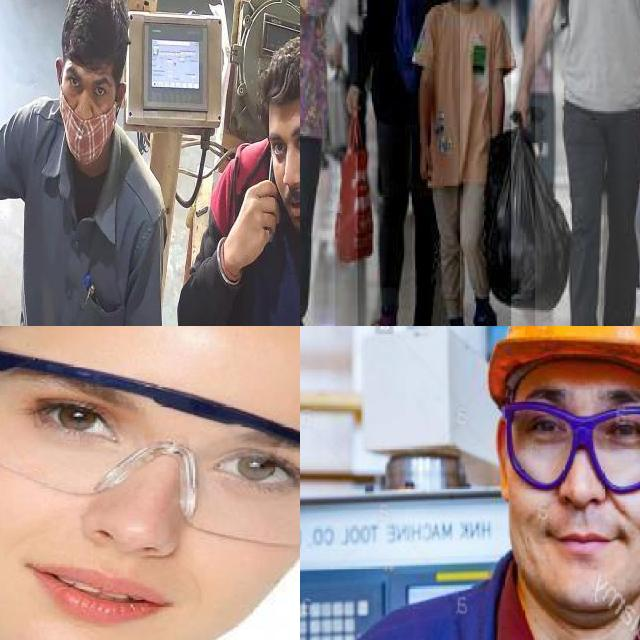face_mask: (60, 70, 115, 166)
face_nomask: (16, 386, 288, 640), (514, 396, 640, 562), (266, 127, 300, 226)
glasses: (0, 326, 300, 553), (500, 403, 640, 494)
hand_noglove: (230, 178, 284, 256), (507, 78, 536, 126), (342, 80, 370, 122)
head_helmet: (484, 326, 640, 412)
head_nohelmet: (57, 0, 133, 69), (260, 30, 300, 118)
person: (320, 326, 640, 640), (7, 0, 162, 326), (178, 26, 300, 326), (535, 0, 640, 326), (357, 0, 460, 326), (415, 0, 512, 326)
shoes: (470, 290, 505, 326), (364, 302, 401, 326), (407, 305, 437, 326)
